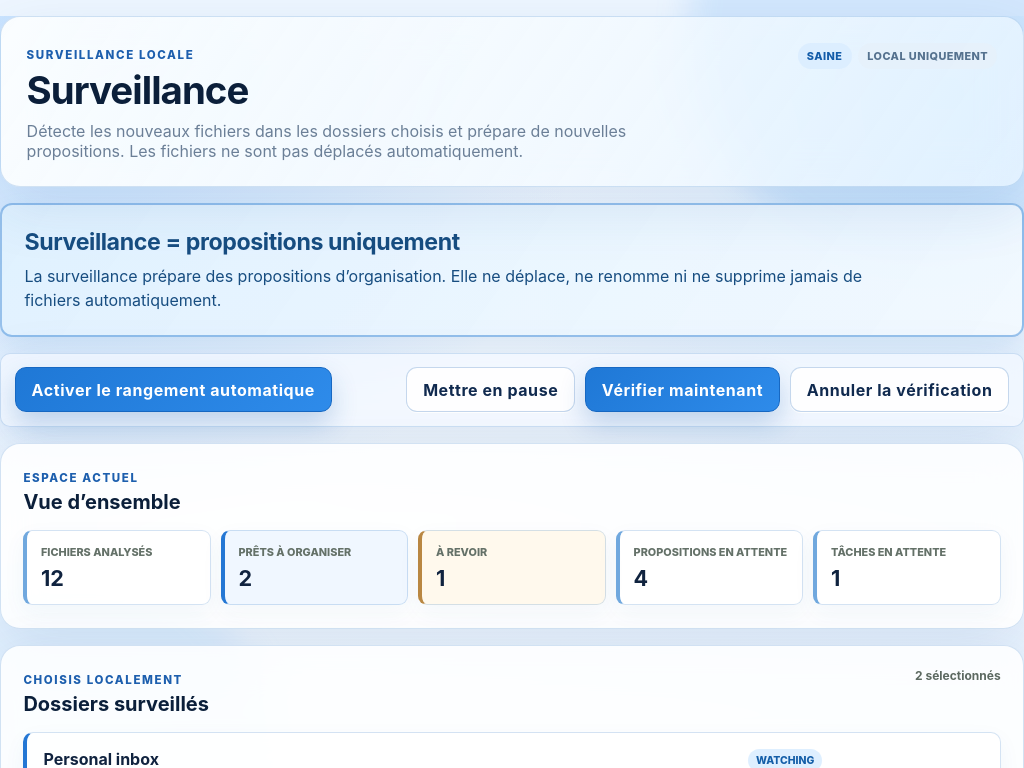
Milestone 10 monitoring dashboard › enables automatic organization explicitly and explains the 92 percent gate
Click the button "Activer le rangement automatique".
click(173, 390)  # box x1=15 y1=367 x2=332 y2=412
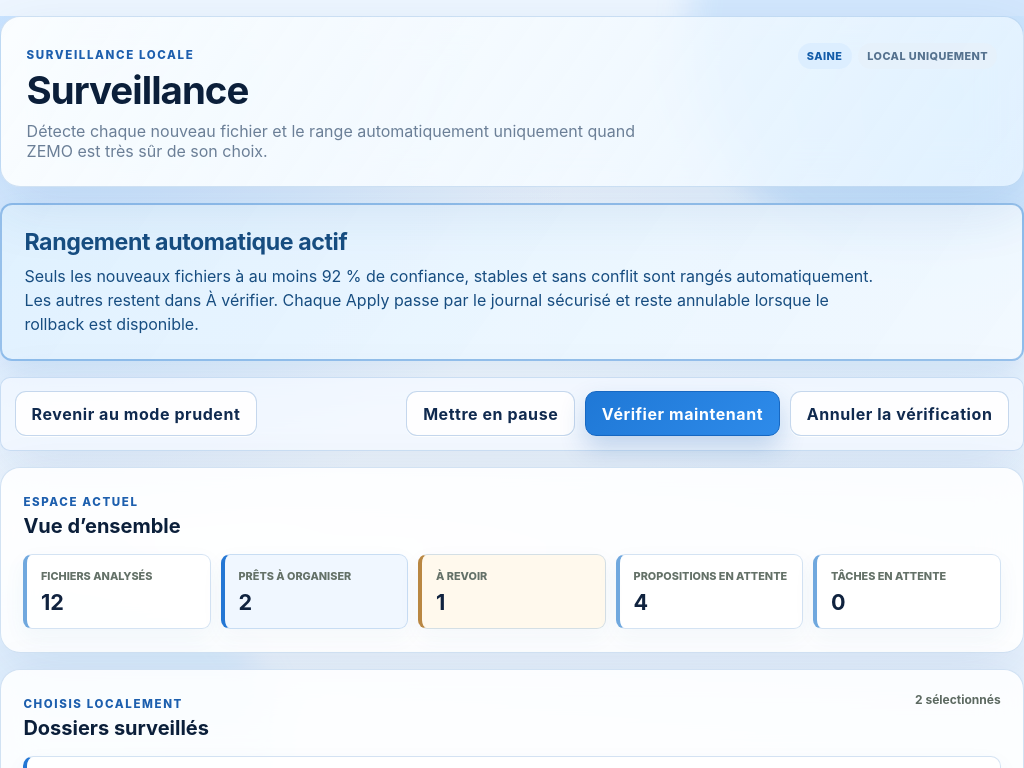
Expected: the text "Rangement automatique actif" is shown, x1=24 y1=228 x2=347 y2=256
Expected: the text "92 % de confiance" is shown, x1=24 y1=266 x2=873 y2=334
Expected: the button "Revenir au mode prudent" is shown, x1=15 y1=391 x2=257 y2=436
